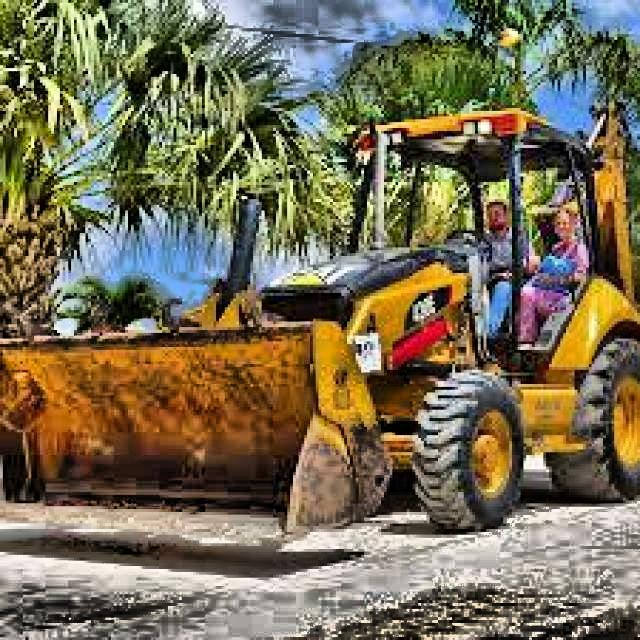bull_dozer/loader/grader: (0, 95, 640, 564)
person: (520, 205, 592, 352), (467, 197, 528, 341)
